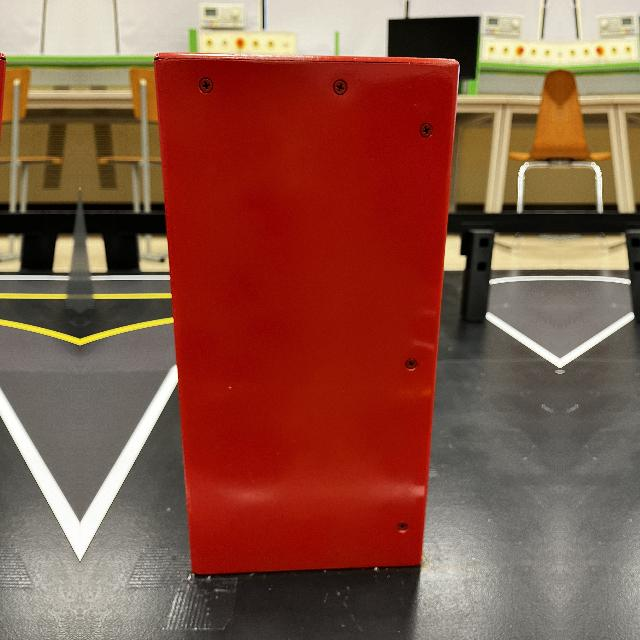obstacle: (155, 50, 457, 578), (0, 50, 5, 577)
